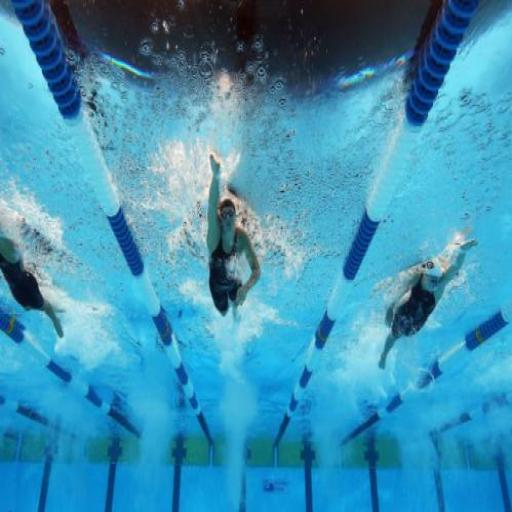swimming: (370, 228, 480, 373), (201, 150, 263, 321), (0, 228, 67, 342)
